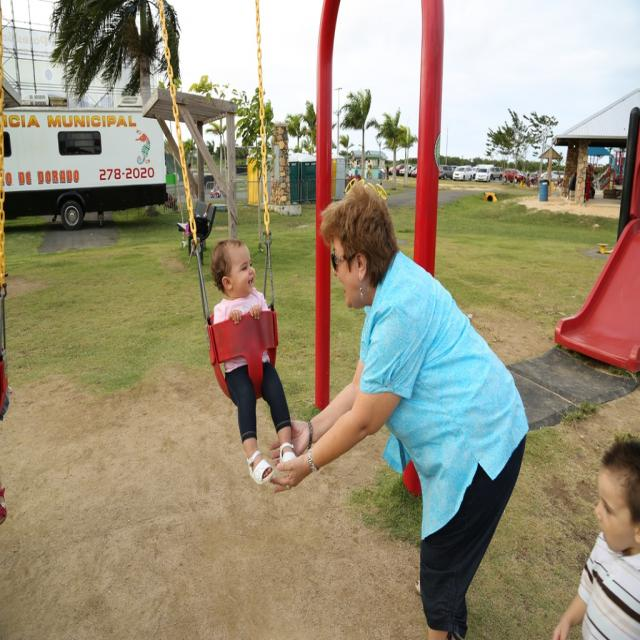other: (388, 164, 564, 184), (378, 166, 386, 176)
